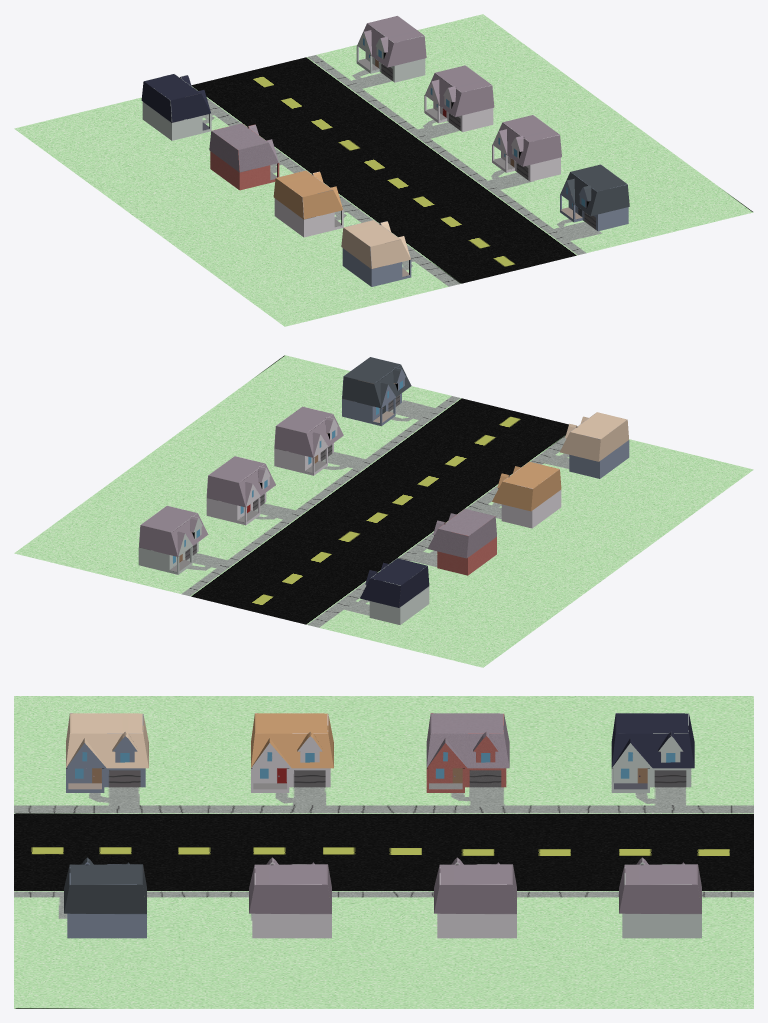
File: chunk.glb
3 renders of one model, top to bottom at view 1: azimuth 30°, elevation 25°; view 2: azimuth 150°, elevation 25°; view 3: azimuth 270°, elevation 25°, orthographic. The views are drawn at different scales.
Visible parts, largest first — view 1: ground, house_01, house_07, house_06, house_04, house_02, house_05, house_03, house_08; view 2: ground, house_02, house_05, house_03, house_08, house_01, house_06, house_07, house_04; view 3: ground, house_04, house_06, house_01, house_07, house_02, house_03, house_05, house_08.
Boxes of the visible parts, bbox=[...] form: ground: bbox=[14, 14, 753, 326]; house_01: bbox=[273, 170, 343, 237]; house_07: bbox=[341, 220, 411, 286]; house_06: bbox=[141, 74, 211, 140]; house_04: bbox=[209, 123, 279, 190]; house_02: bbox=[424, 65, 494, 132]; house_05: bbox=[356, 15, 426, 82]; house_03: bbox=[492, 115, 561, 181]; house_08: bbox=[560, 164, 629, 231]; ground: bbox=[14, 355, 753, 667]; house_02: bbox=[206, 456, 275, 525]; house_05: bbox=[138, 505, 208, 574]; house_03: bbox=[274, 406, 343, 475]; house_08: bbox=[342, 357, 411, 426]; house_01: bbox=[492, 461, 561, 528]; house_06: bbox=[360, 558, 429, 624]; house_07: bbox=[560, 412, 629, 478]; house_04: bbox=[427, 509, 496, 575]; ground: bbox=[14, 696, 753, 1008]; house_04: bbox=[426, 713, 509, 792]; house_06: bbox=[611, 713, 694, 792]; house_01: bbox=[251, 713, 333, 792]; house_07: bbox=[66, 713, 148, 792]; house_02: bbox=[434, 857, 516, 938]; house_03: bbox=[249, 857, 331, 938]; house_05: bbox=[619, 857, 701, 938]; house_08: bbox=[64, 857, 146, 938].
Bounding box in the file's own units: 80 × 6.8 × 80.
9 materials, 9 textured.
